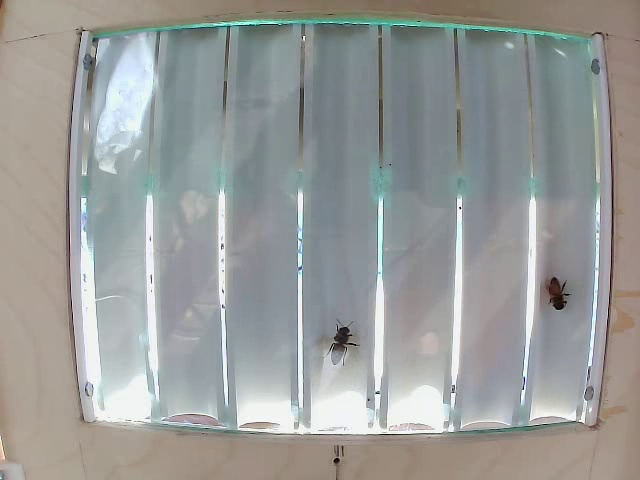bee: (318, 323, 370, 374), (538, 272, 580, 317)
